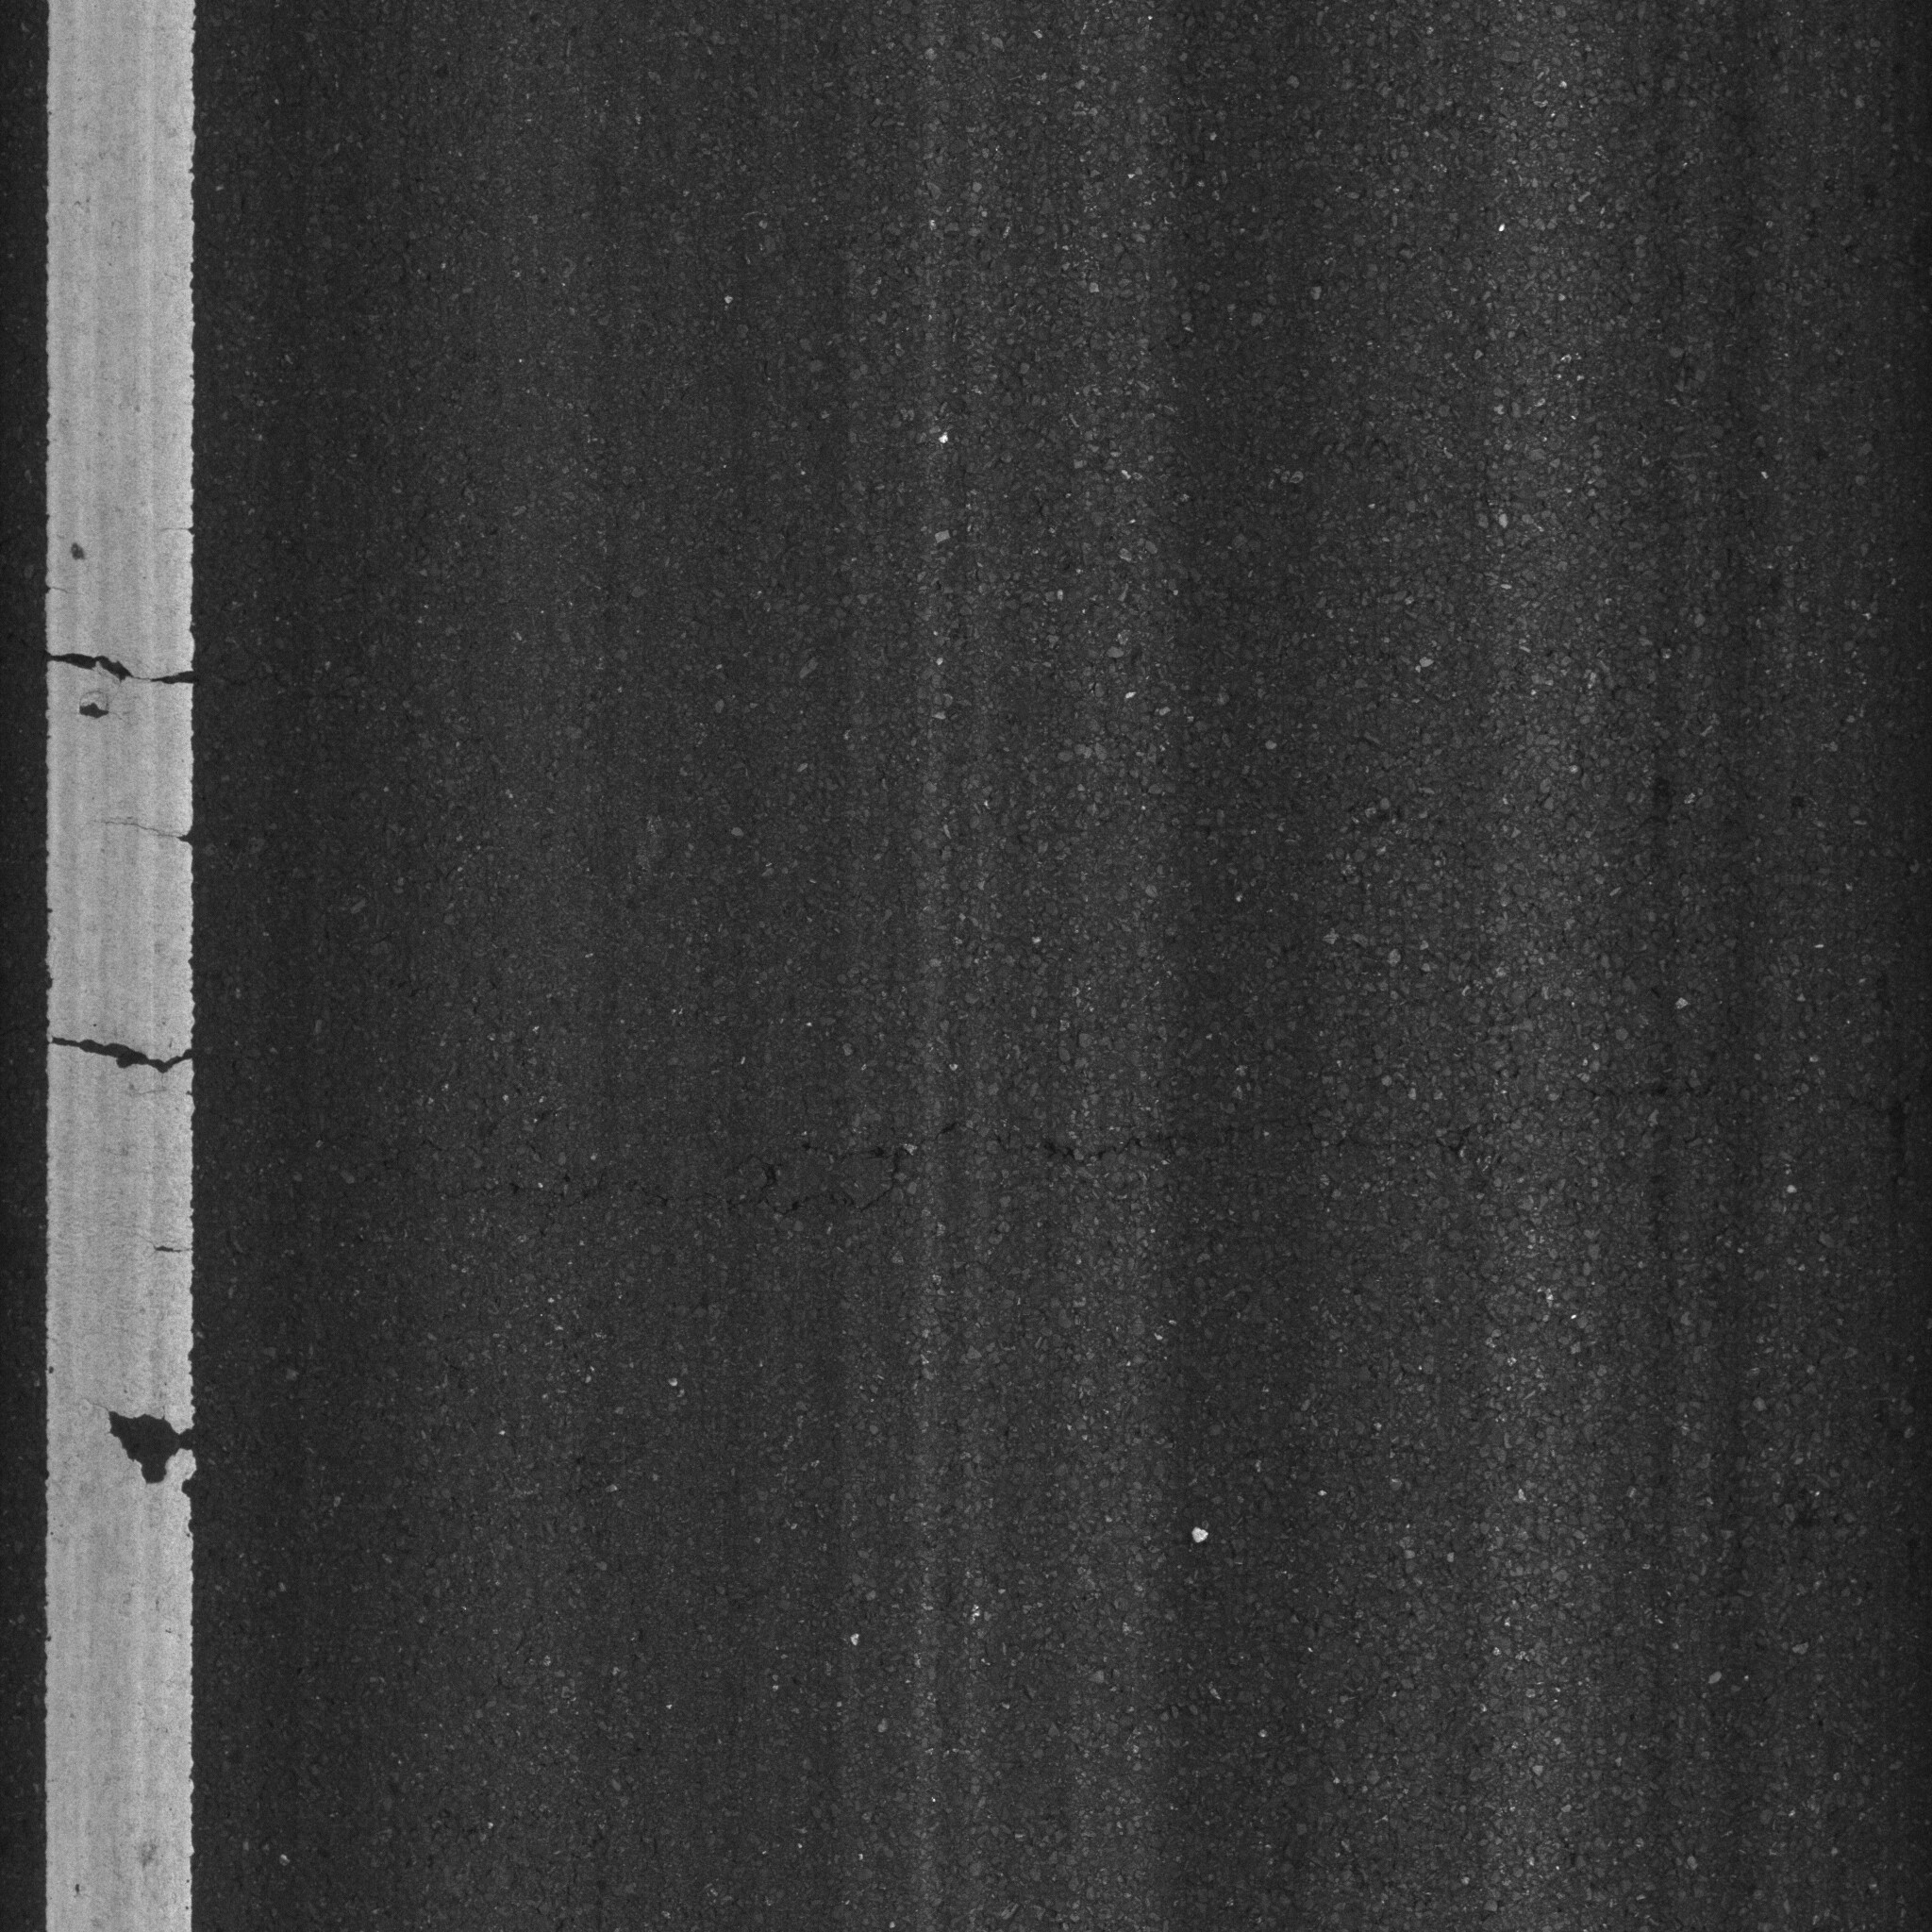transverse: (695, 1054, 1890, 1230)
